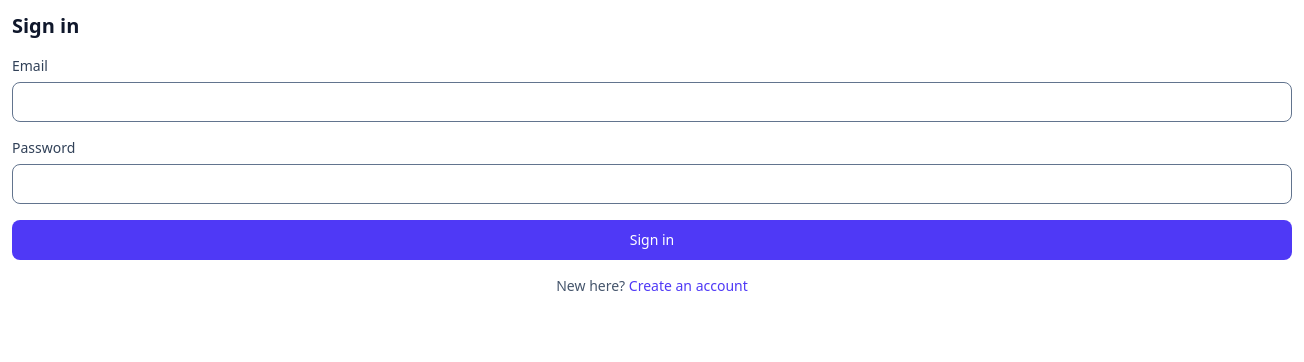
AuthForm: signing in › shows the server’s reason and lets the person try again
The width and height of the screenshot is (1304, 362).
In the field labelled "Email": (652, 102) 12,82 -> 1292,122, type "a@example.test"
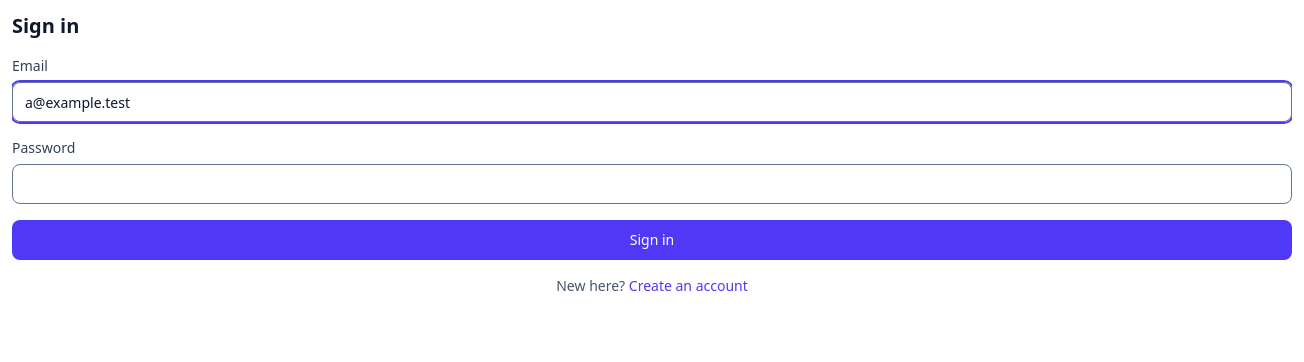
In the password field labelled "Password": (652, 184) 12,164 -> 1292,204, type "secret"
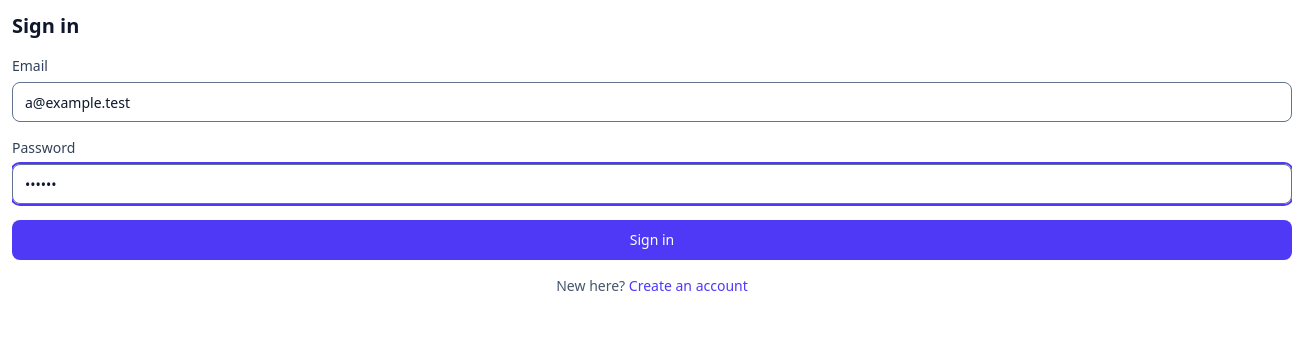
Click the button "Sign in": (652, 240) 12,220 -> 1292,260
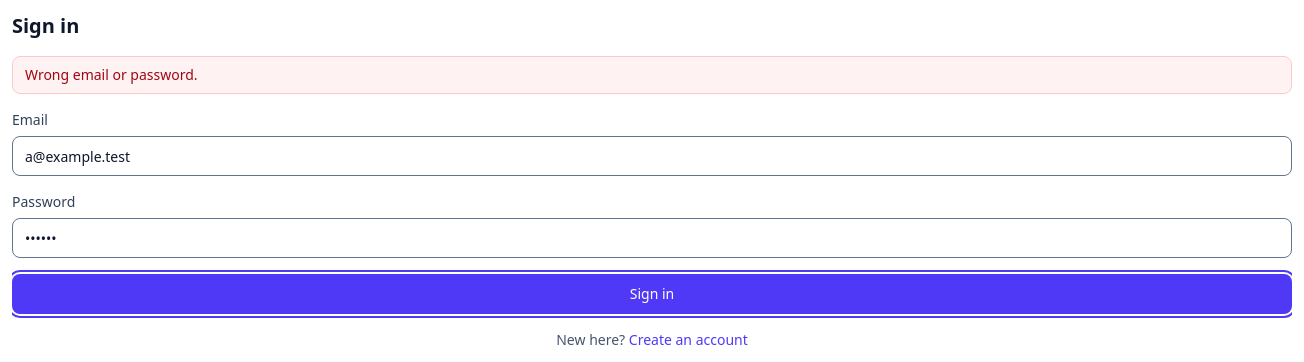
Check: the message reads "Wrong email or password.", box 25,65 -> 198,84
